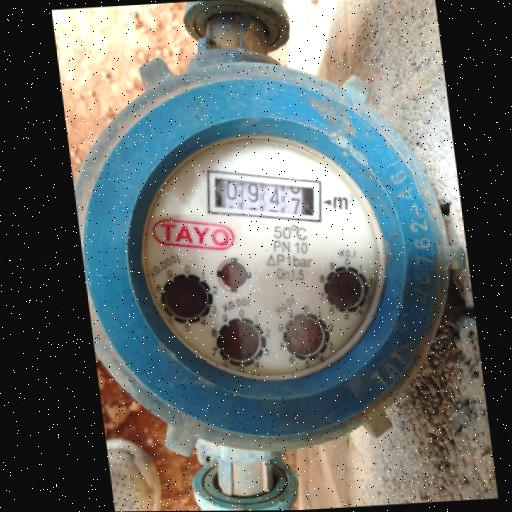0: (217, 177, 246, 209)
4: (259, 183, 287, 215)
7: (280, 184, 306, 216)
9: (238, 181, 267, 212)
border_water_meter_number: (201, 162, 328, 228)
